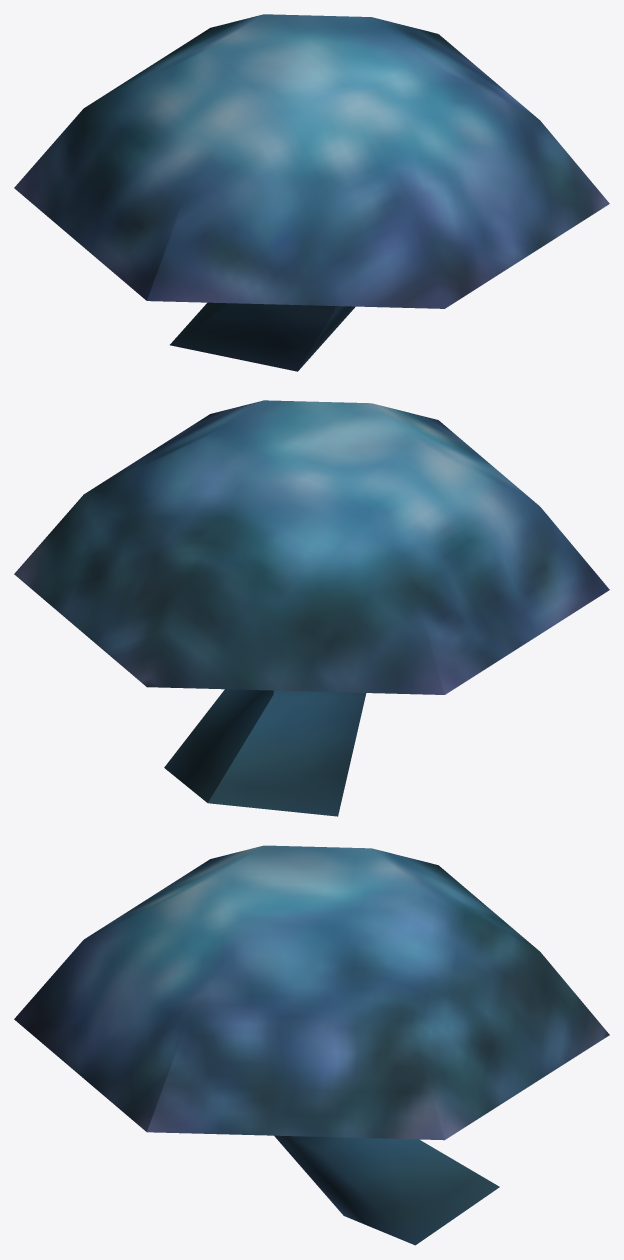
The model's file is FB11_mogu1.fbx.
The picture shows the model from 3 angles, top to bottom: view 1: azimuth 30°, elevation 25°; view 2: azimuth 150°, elevation 25°; view 3: azimuth 270°, elevation 25°; orthographic projection.
Parts seen in each view (by area): view 1: pasted__polySurface118; view 2: pasted__polySurface118; view 3: pasted__polySurface118.
Boxes of the visible parts, x1=… form: pasted__polySurface118: x1=14, y1=14, x2=609, y2=371; pasted__polySurface118: x1=14, y1=400, x2=609, y2=816; pasted__polySurface118: x1=14, y1=845, x2=609, y2=1245.
Size of the model in its own units: 139 by 94.07 by 155.
1 material, 1 textured.
